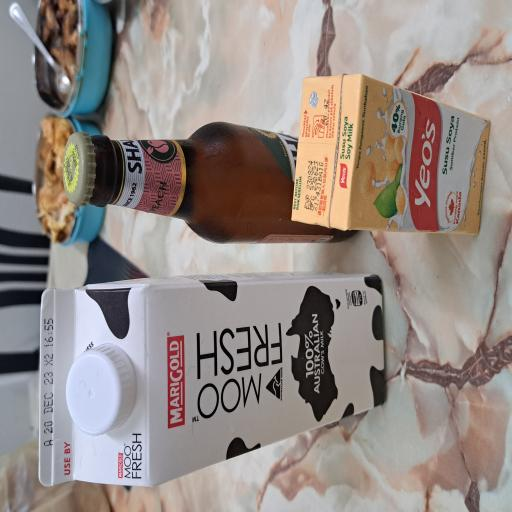drink carton: (18, 49, 178, 512), (210, 384, 329, 512)
glass bottle: (202, 85, 292, 478)
plastic bottle cap: (60, 86, 125, 183)
